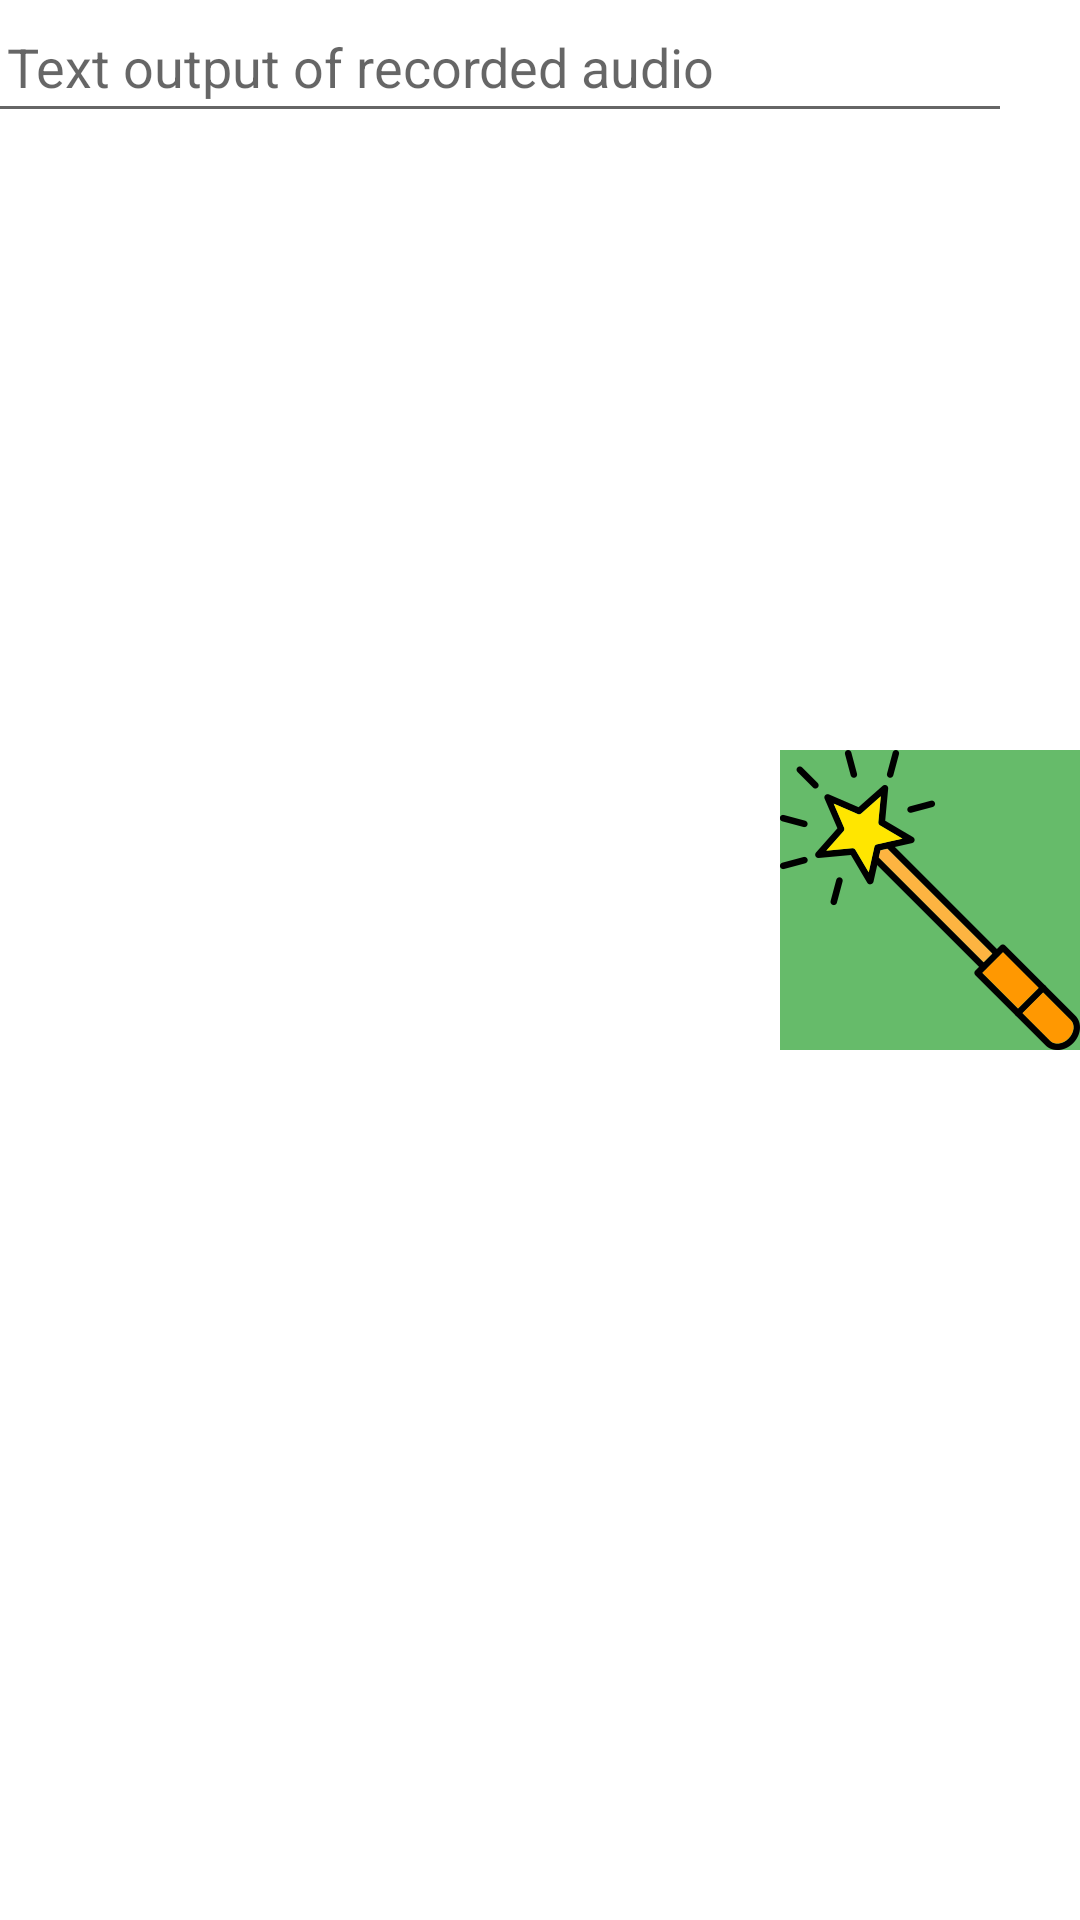

Icons on this 1080w x 1920h Android screen, each with the point to tap as point (x, y):
wand: point (930, 900)
